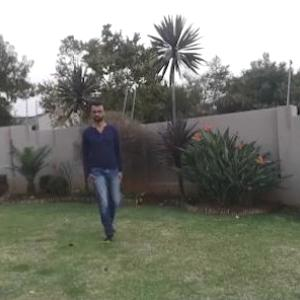follow: (85, 100, 125, 233)
